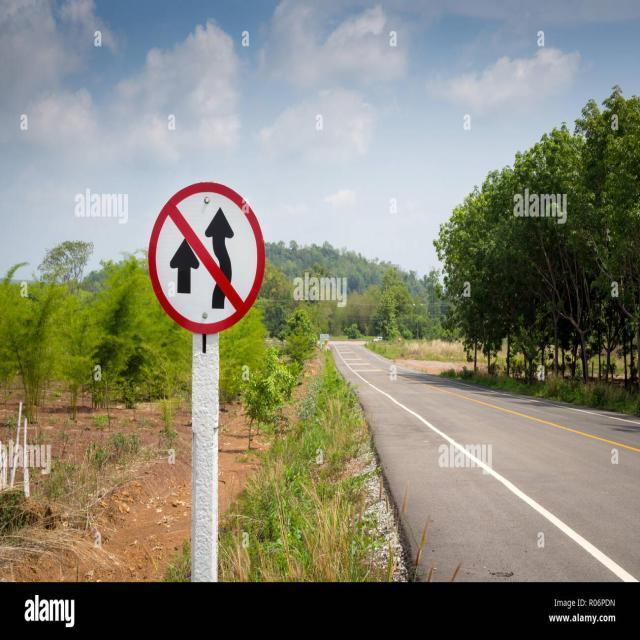overtaking prohibited: (149, 182, 266, 338)
